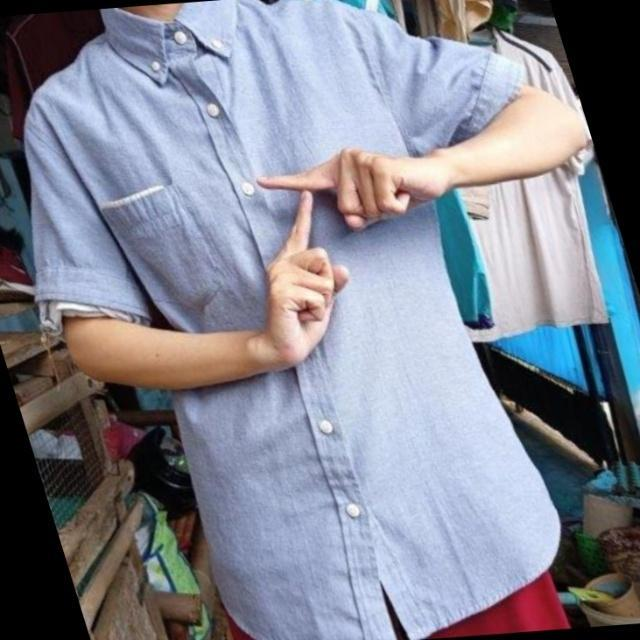T: (233, 136, 443, 381)
